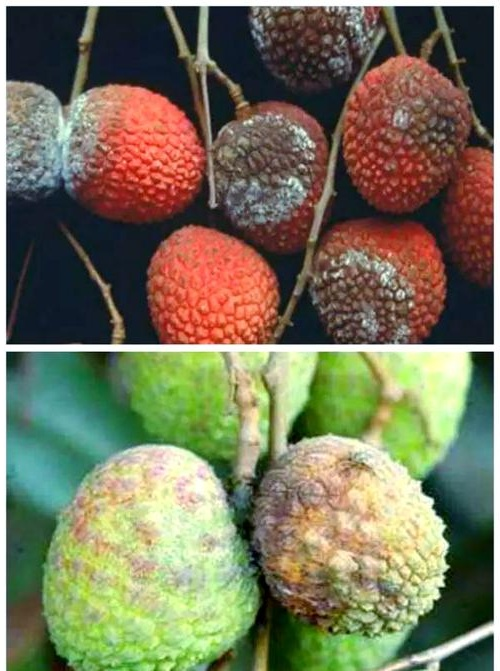Frost_Blight: (253, 434, 372, 627), (6, 52, 112, 221), (214, 123, 300, 249), (248, 0, 360, 83), (307, 255, 411, 333)
